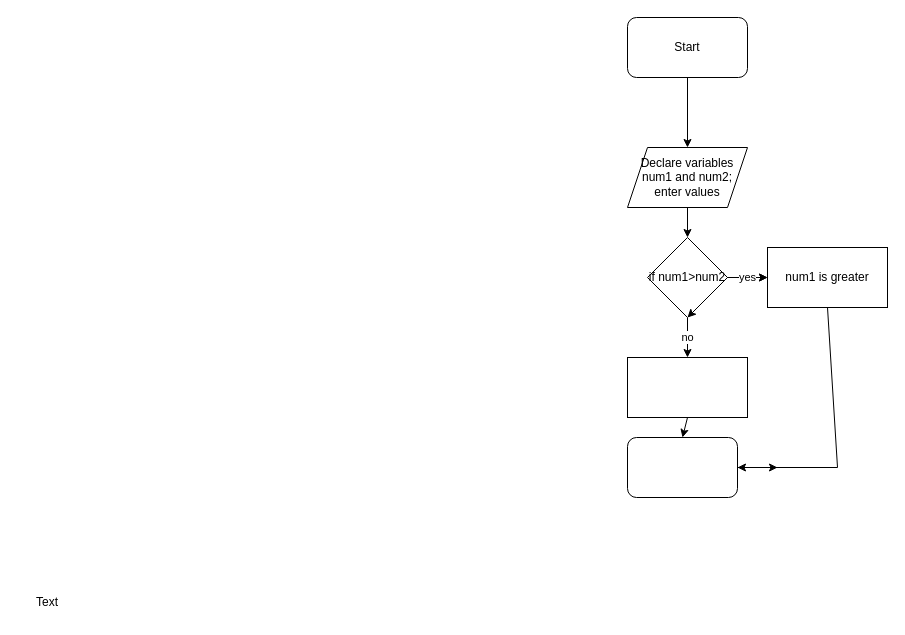
Image size: 905x635. Some labels were removed from this diagram. Each missing label, with the box of its shape:
End: (626, 436, 738, 498)
num2 is greater: (626, 356, 748, 418)
